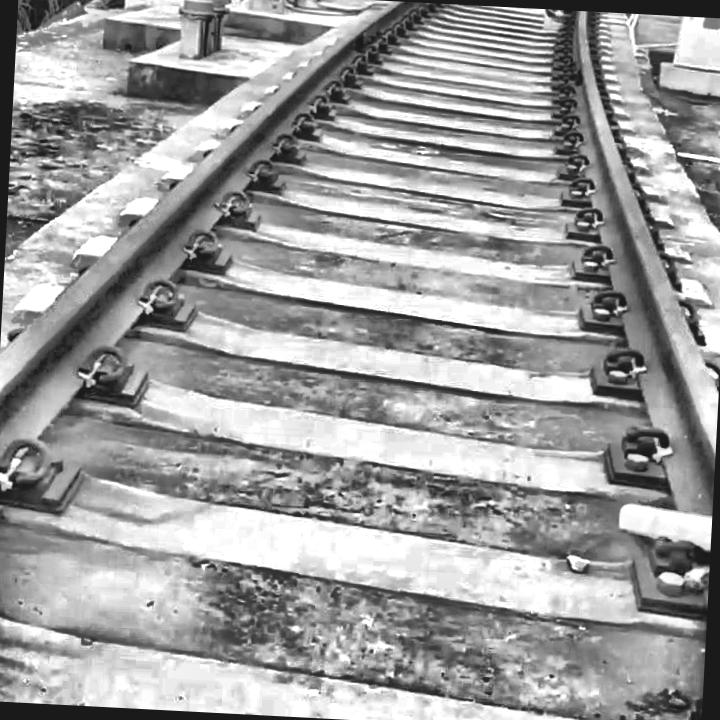Trash: (590, 472, 714, 560), (536, 9, 576, 39)
